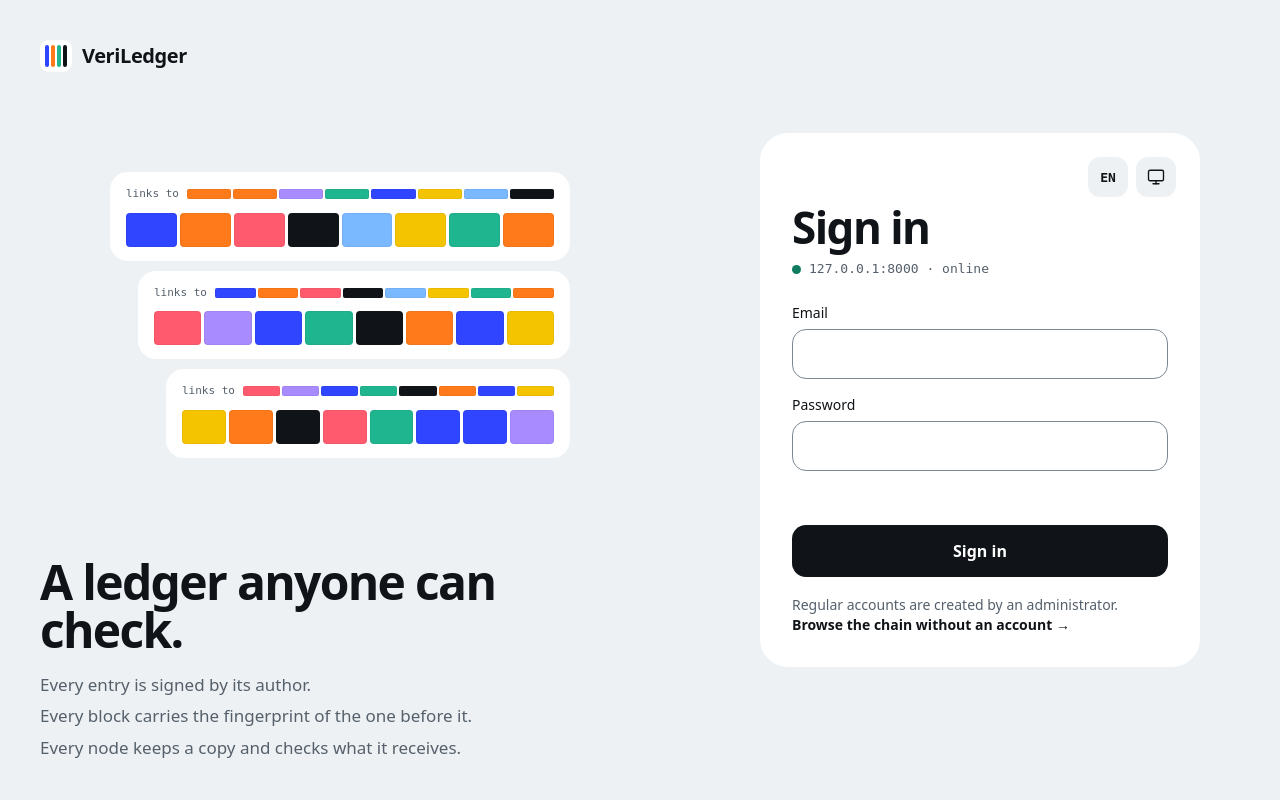
Test: Login › says when the API does not answer, without shaking
The image size is (1280, 800).
Type "trader@veriledger.test" into the field labelled "Email". click: coordinates (980, 354)
box: [792,329,1168,379]
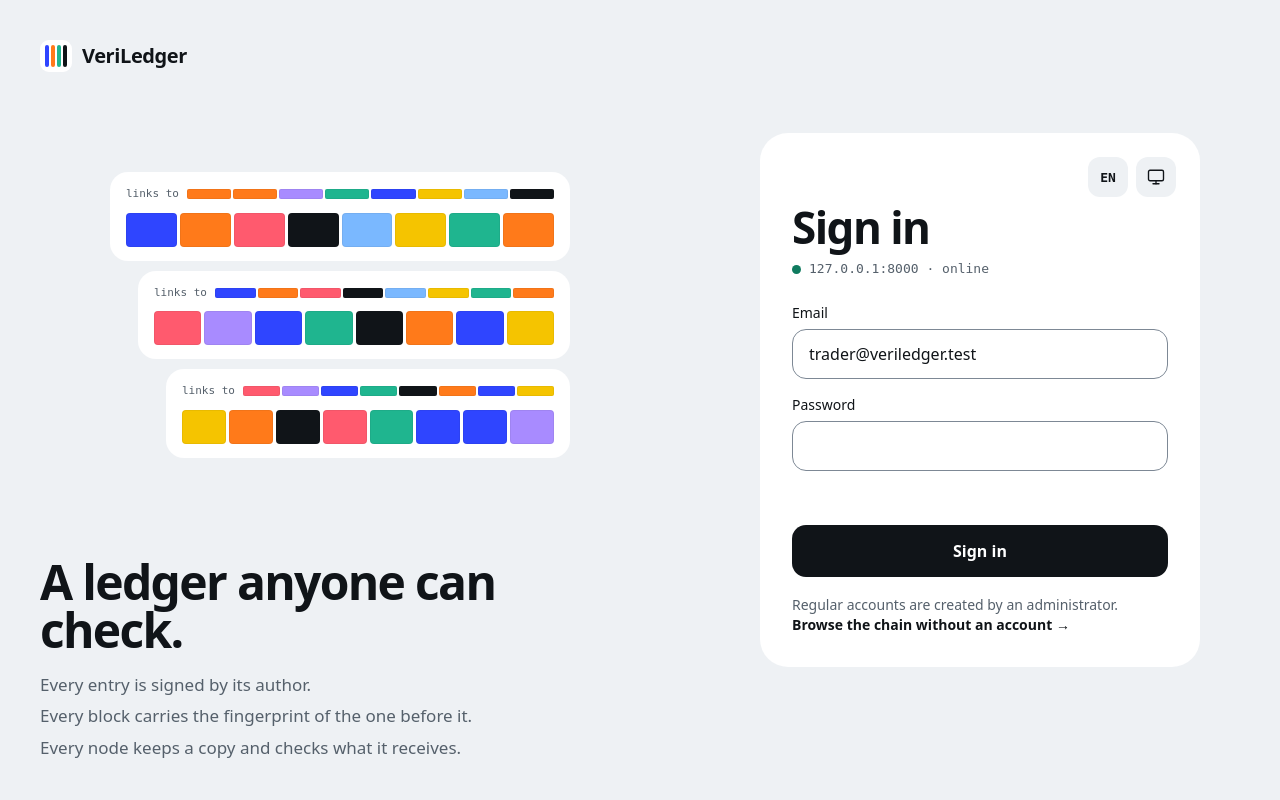
Type "a password" into the password field labelled "Password". click: coordinates (980, 446)
box: [792,421,1168,471]
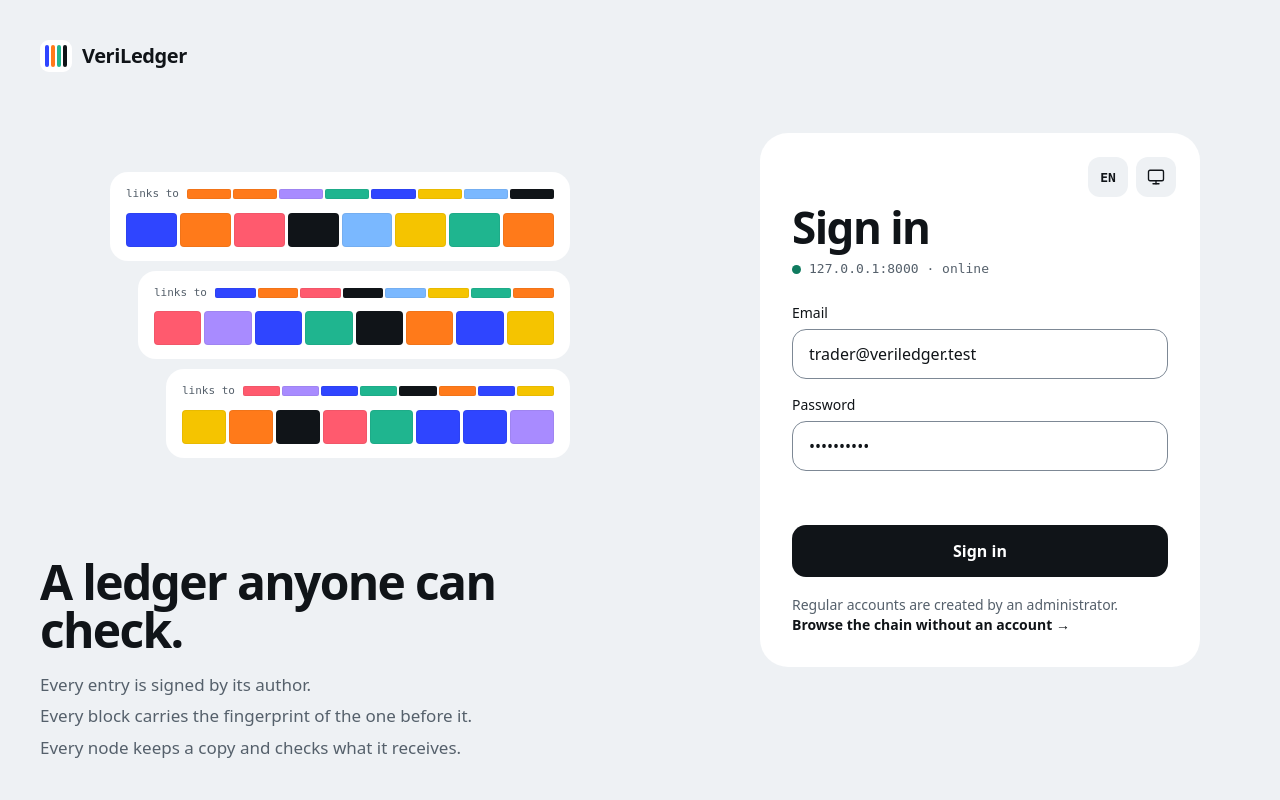
Submit the form "Sign in", box [792,303,1168,577]
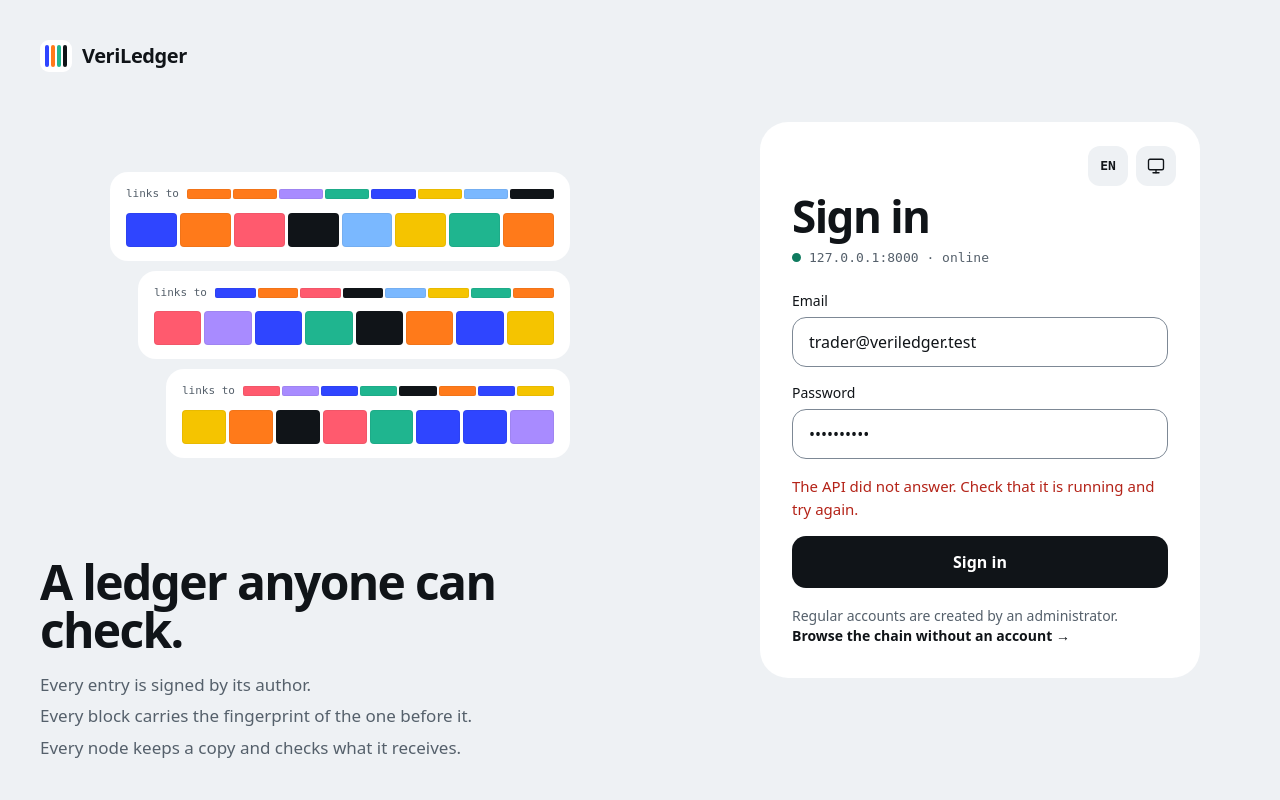
Check: the message shows "The API did not answer.", box [792,476,1154,519]
